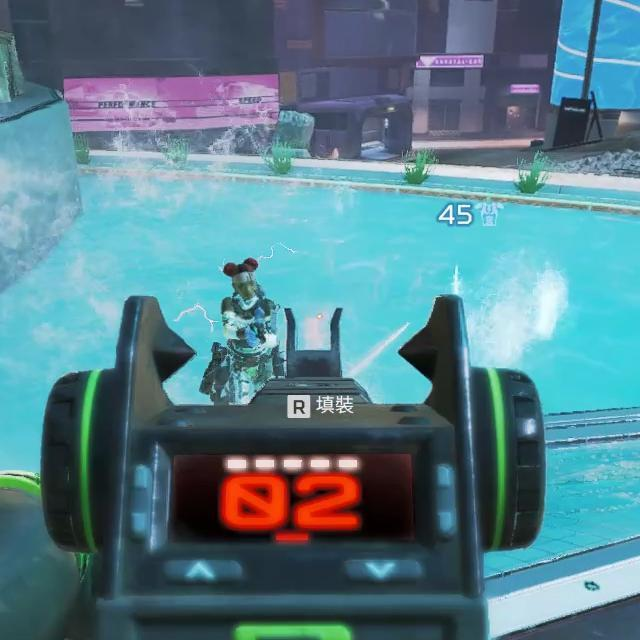avatar: (197, 256, 286, 408)
